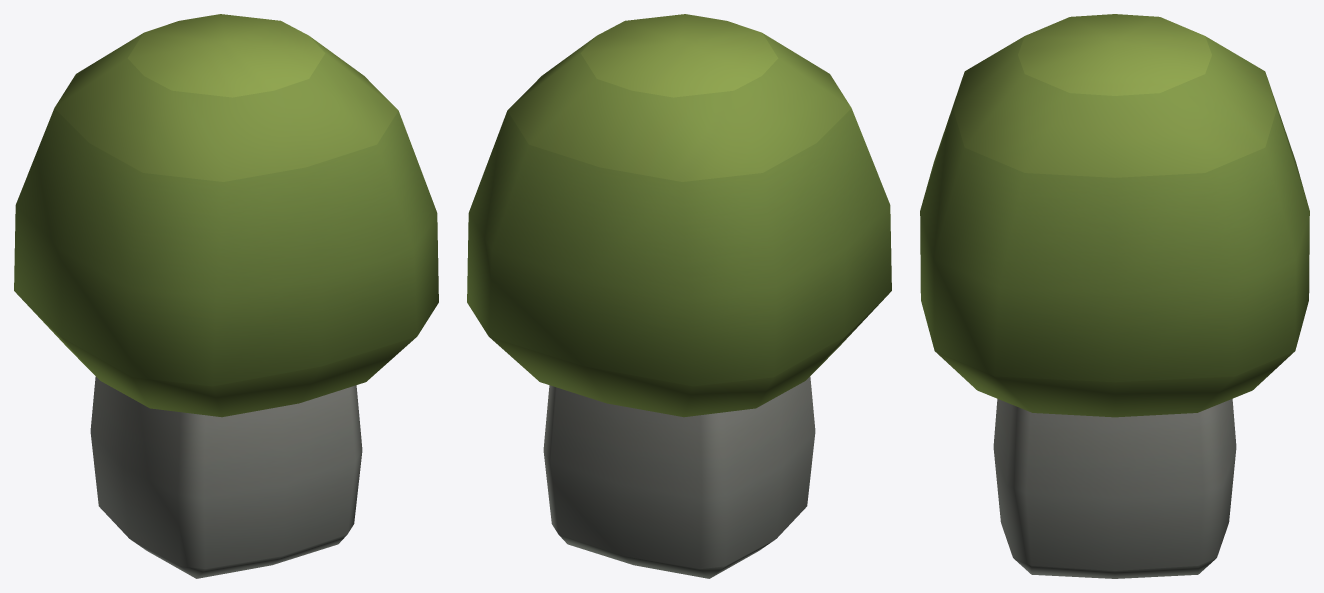
File: bush_plant_big_pot.fbx
3 views of the same model, side by side, from view 1: azimuth 30°, elevation 25°; view 2: azimuth 150°, elevation 25°; view 3: azimuth 270°, elevation 25° (orthographic).
Visible parts, largest first — view 1: bush_plant_big_pot; view 2: bush_plant_big_pot; view 3: bush_plant_big_pot.
Boxes of the visible parts, x1,y1,x2,y2 form: bush_plant_big_pot: (14, 14, 438, 578); bush_plant_big_pot: (467, 14, 891, 578); bush_plant_big_pot: (920, 14, 1309, 578).
Bounding box in the file's own units: 95.56 × 135 × 95.56.
